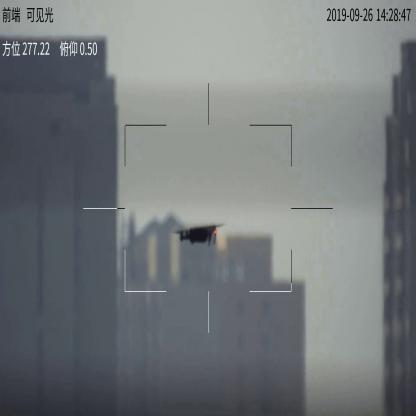uav: (170, 220, 221, 248)
